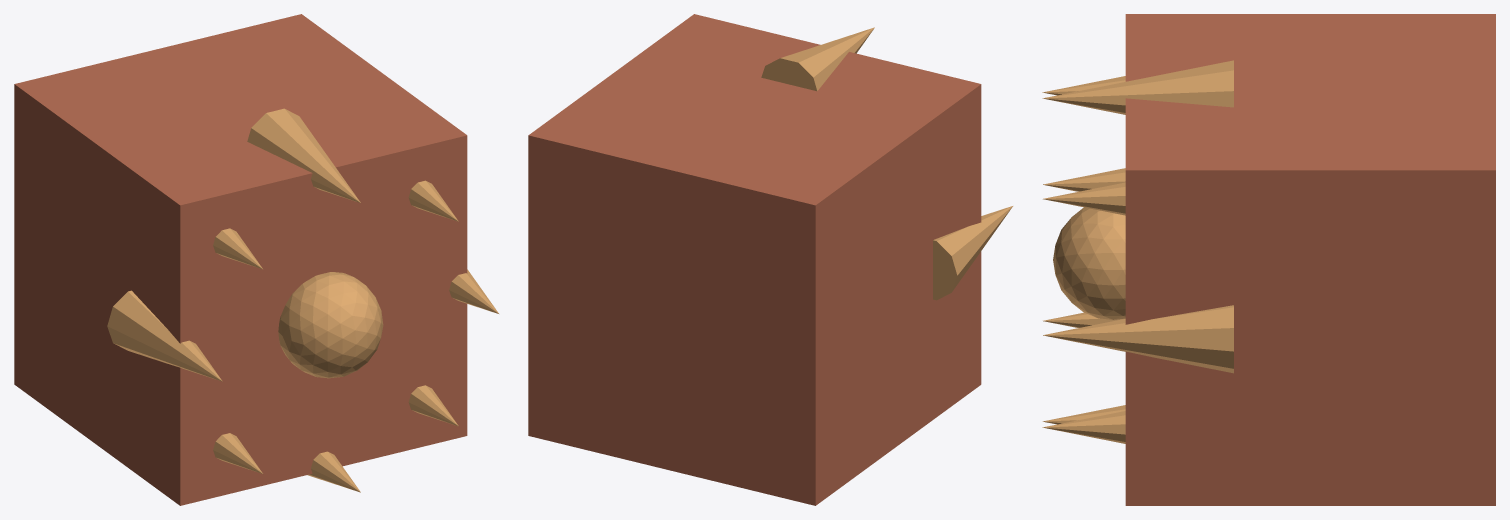
Rendered from inferno_lord.glb.
The picture shows the model from 3 angles, left to right: view 1: azimuth 30°, elevation 25°; view 2: azimuth 150°, elevation 25°; view 3: azimuth 270°, elevation 25°; orthographic projection. The views are drawn at different scales.
Parts seen in each view (by area): view 1: world; view 2: world; view 3: world.
Part boxes in pixels (bbox=[...]): world: bbox=[14, 14, 498, 505]; world: bbox=[528, 14, 1012, 505]; world: bbox=[1042, 14, 1495, 505].
Bounding box in the file's own units: 1.58 × 1.57 × 1.66.
